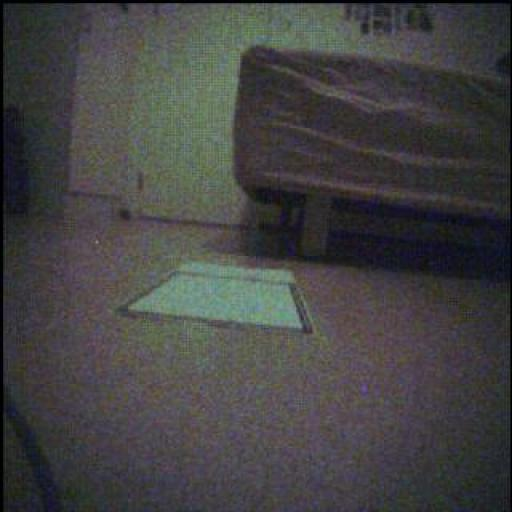pad: (123, 263, 315, 334)
